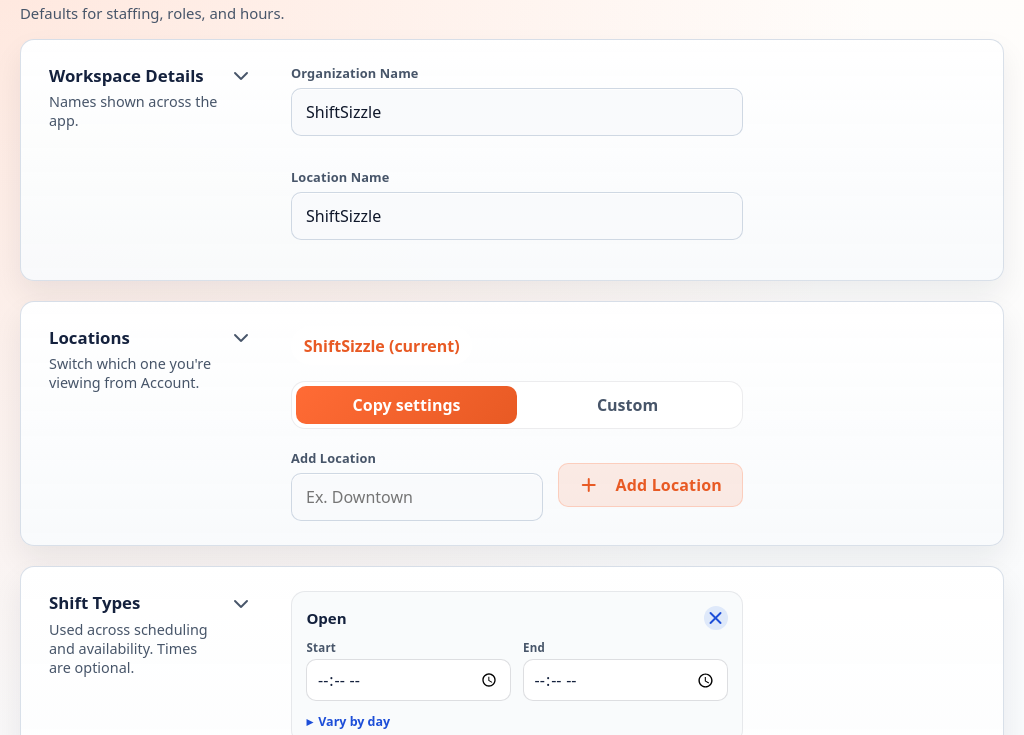
Settings view › saves every dirty section in one action and shows a single confirmation
Step 1. Replace the text in the field labelled "Location Name" with "Uptown Diner" → (517, 216), box [291, 192, 743, 240]
(page scrolled)
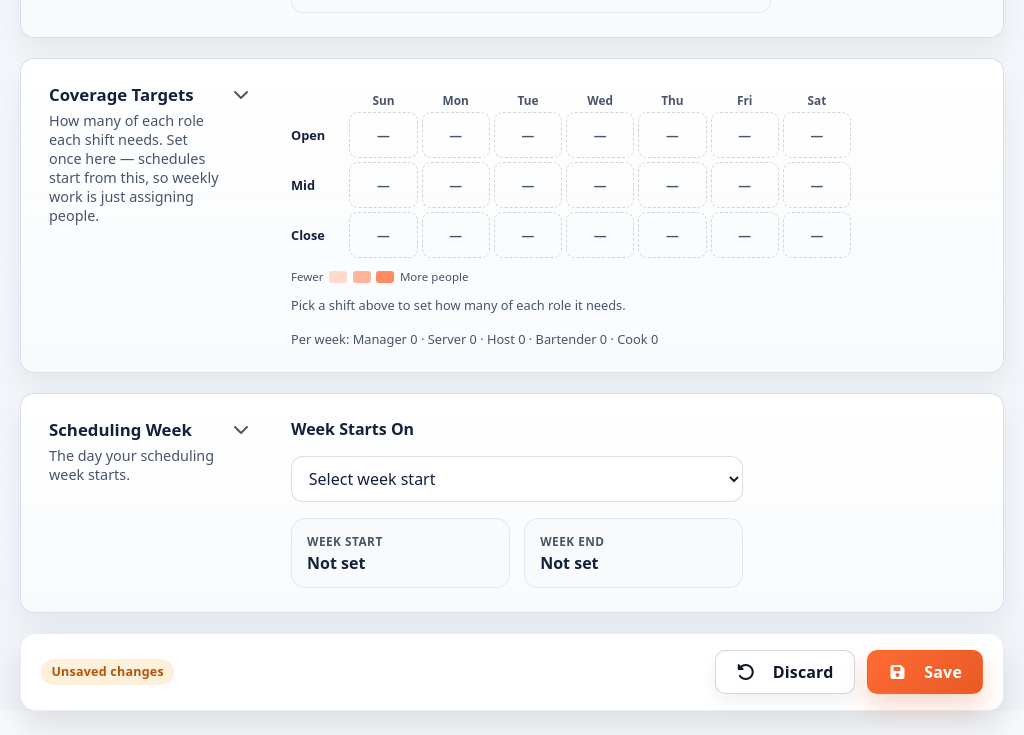
Step 2. Select "Monday" in the dropdown labelled "Week Starts On" → (517, 479), box [291, 456, 743, 502]
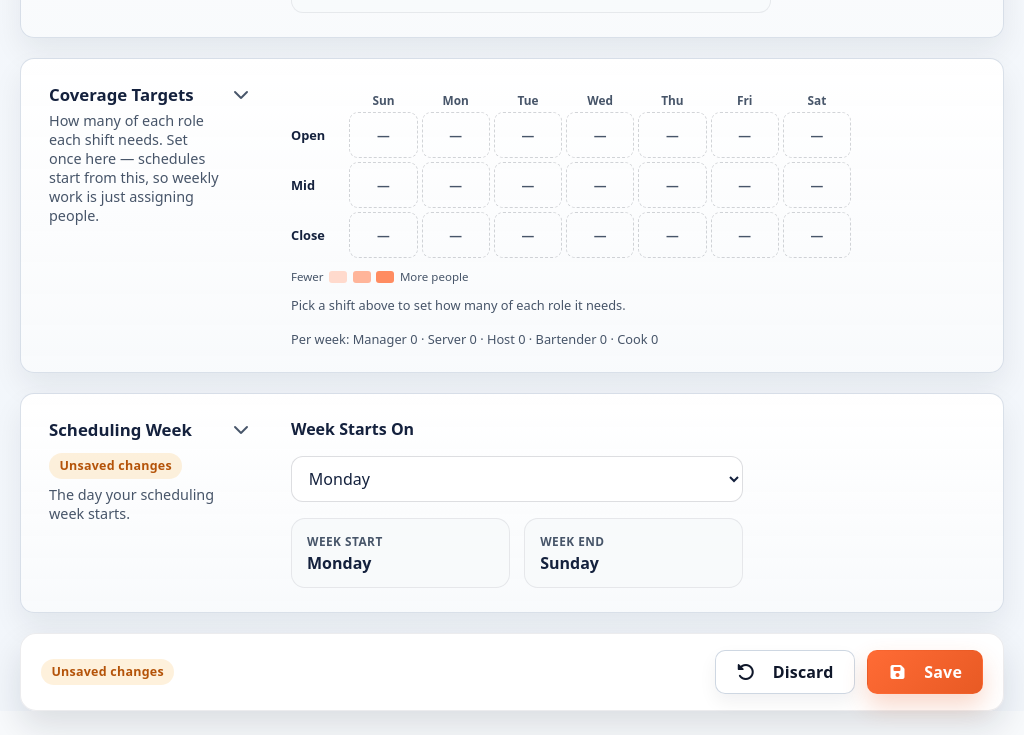
Result: the button "Save" is enabled
Result: the text "Unsaved changes" is shown 3 times
Step 3. Click the button "Save" → (925, 672), box [866, 650, 983, 694]
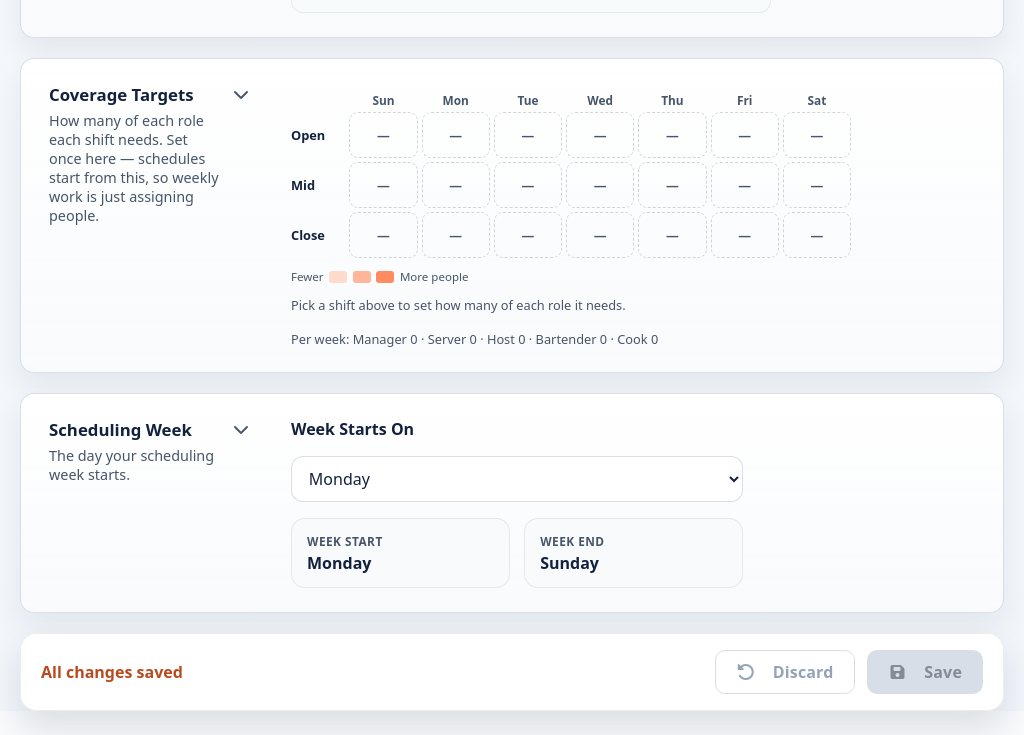
Result: the text "Unsaved changes" is gone
Result: the text "All changes saved" is shown at [41, 661, 183, 683]
